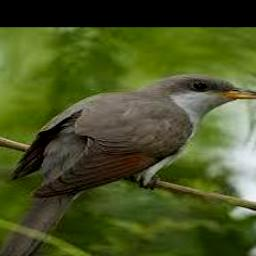Cuckoo: (0, 74, 256, 256)
